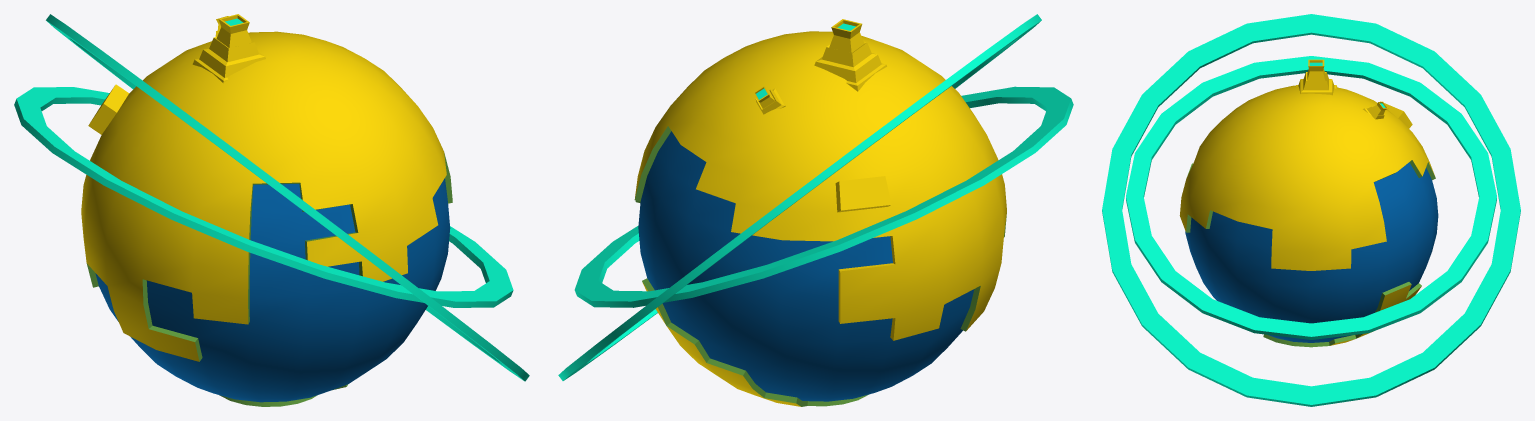
Rendered from 3 Планета.fbx.
3 views of the same model, side by side, from view 1: azimuth 30°, elevation 25°; view 2: azimuth 150°, elevation 25°; view 3: azimuth 270°, elevation 25° (orthographic). The views are drawn at different scales.
Visible parts, largest first — view 1: pCylinder3; view 2: pCylinder3; view 3: pCylinder3.
Boxes of the visible parts, x1=… form: pCylinder3: x1=14, y1=14, x2=529, y2=406; pCylinder3: x1=558, y1=14, x2=1073, y2=406; pCylinder3: x1=1102, y1=14, x2=1520, y2=406.
Size of the model in its own units: 11.53 by 9.94 by 14.12.
